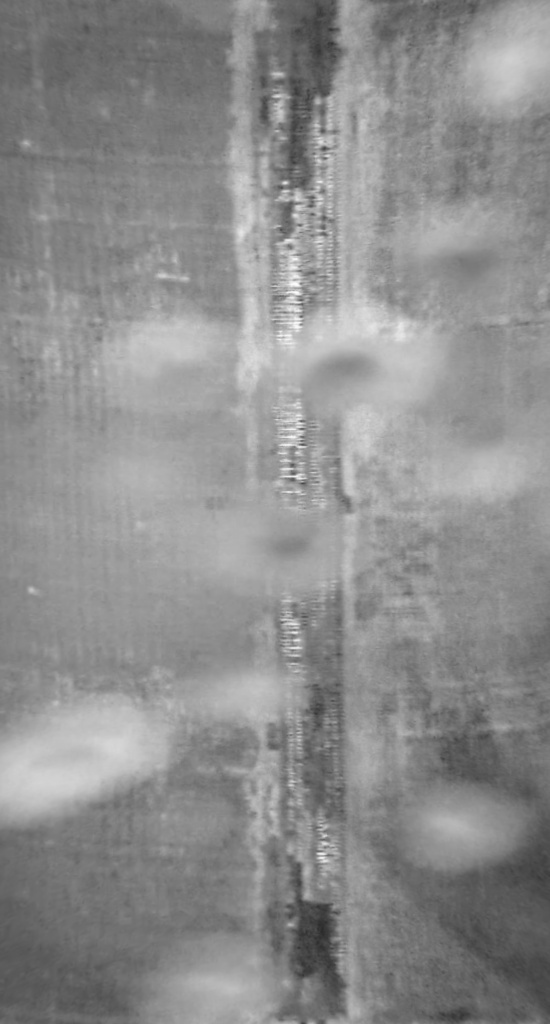splice: (255, 3, 352, 1023)
